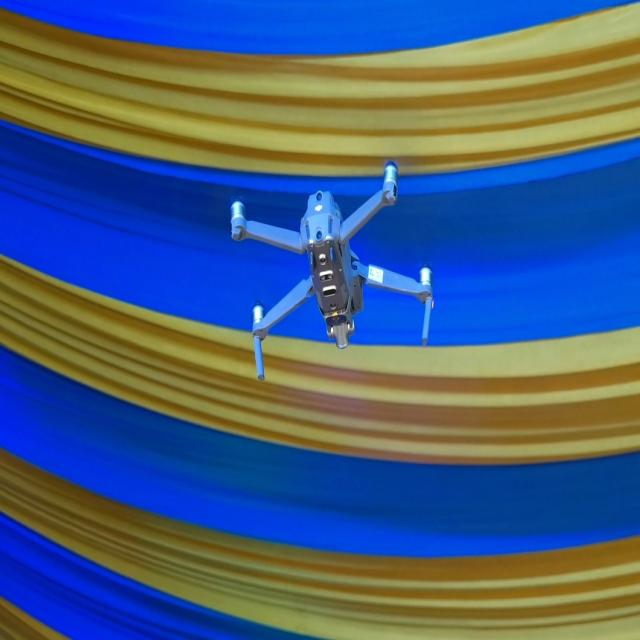Drone: (234, 172, 430, 378)
